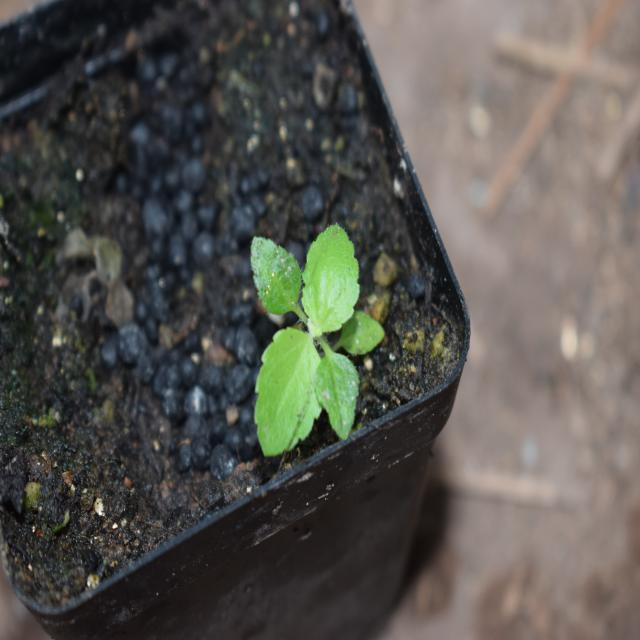billygoat_weed: (234, 208, 377, 436)
